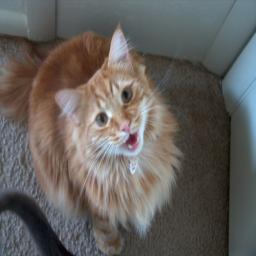catnose: (118, 118, 132, 134)
